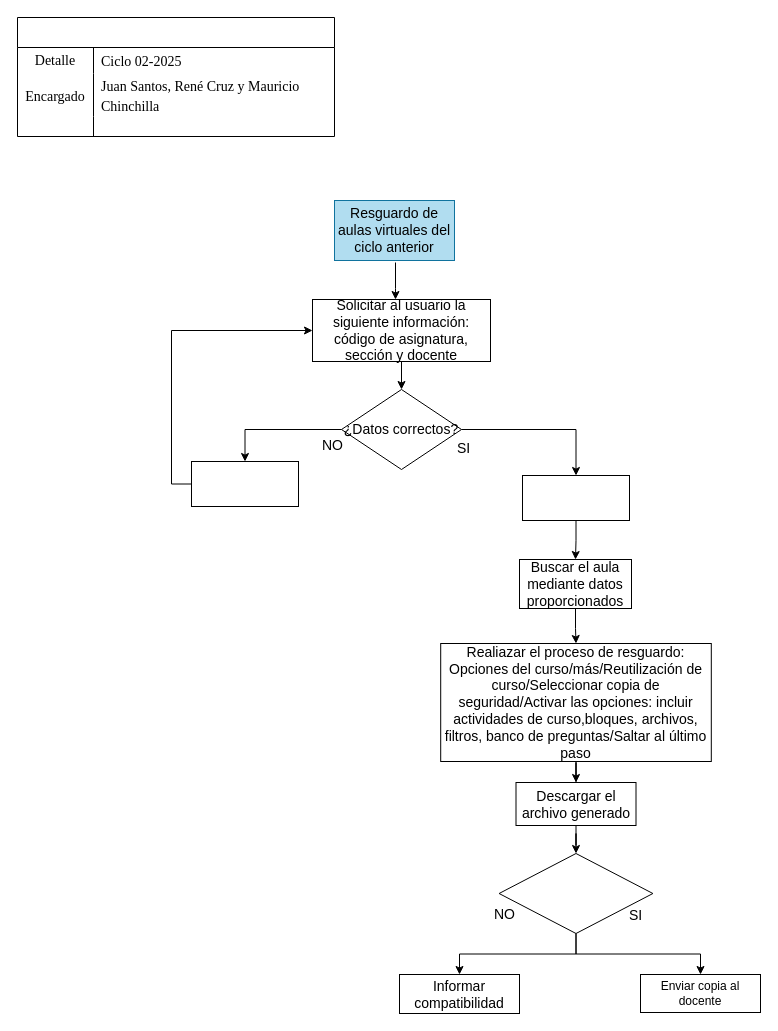
Image size: 778x1031. Some labels were removed from this diagram. Here are the shapes that lost their labels. From the top down, the box of each, then its label:
(16, 16, 334, 136): Resguardo de aula virtuales del ciclo anterior Moodle
(190, 460, 298, 506): Solicitar correción
(522, 474, 630, 520): Identificar aula y servidor
(498, 852, 653, 934): ¿Compatiblidad de versión?
